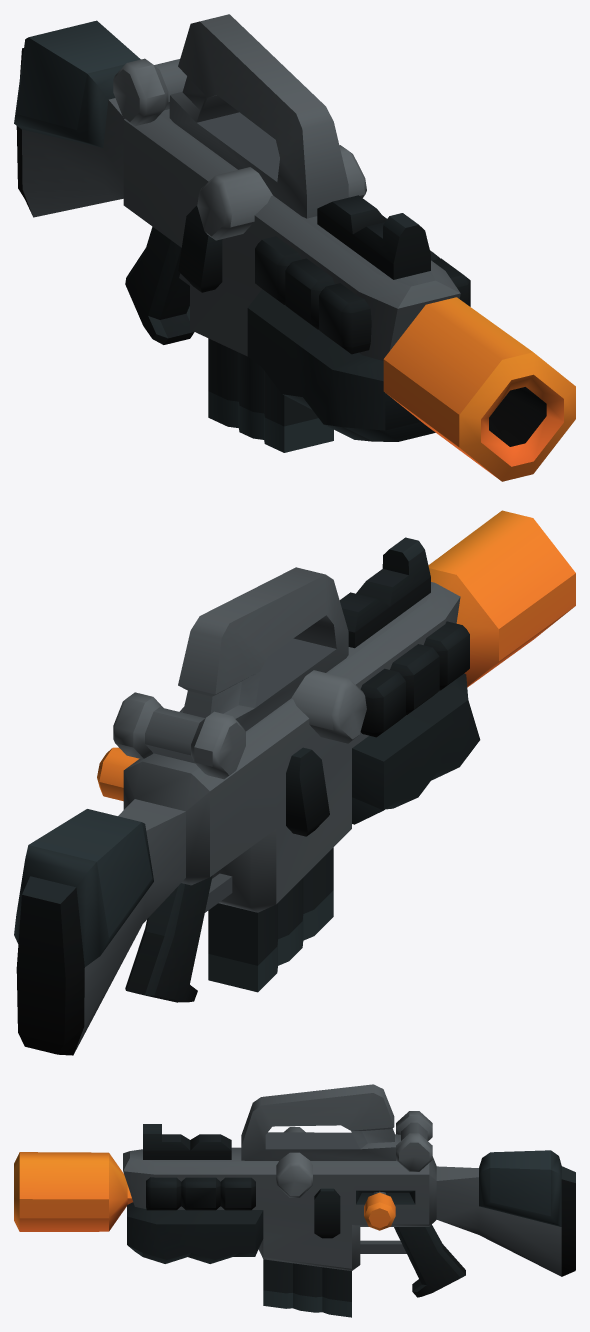
The model's file is Gun.obj.
3 views of the same model, one above another, from view 1: azimuth 30°, elevation 25°; view 2: azimuth 150°, elevation 25°; view 3: azimuth 270°, elevation 25° (orthographic). The views are drawn at different scales.
Visible parts, largest first — view 1: Gun; view 2: Gun; view 3: Gun.
Boxes of the visible parts, left/top/right/bottom form: Gun: left=14, top=14, right=575, bottom=481; Gun: left=14, top=510, right=575, bottom=1055; Gun: left=14, top=1084, right=575, bottom=1317.
Bounding box in the file's own units: 0.3486 × 0.7156 × 1.64.
Materials: 1 (1 with a texture image).
